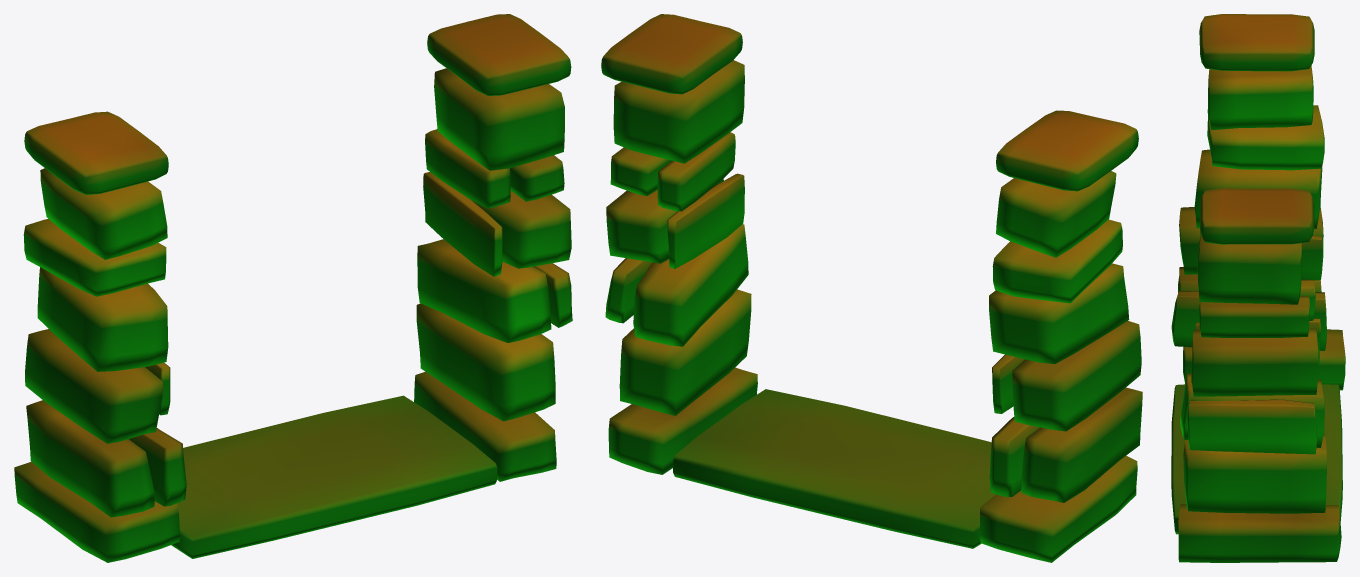
The model's file is tidewall_gate.glb.
3 views of the same model, side by side, from view 1: azimuth 30°, elevation 25°; view 2: azimuth 150°, elevation 25°; view 3: azimuth 270°, elevation 25° (orthographic). The views are drawn at different scales.
Visible parts, largest first — view 1: tidewall_gate; view 2: tidewall_gate; view 3: tidewall_gate.
Boxes of the visible parts, x1=… form: tidewall_gate: x1=14, y1=14, x2=572, y2=562; tidewall_gate: x1=601, y1=14, x2=1142, y2=562; tidewall_gate: x1=1171, y1=14, x2=1345, y2=562.
Size of what is drawn, in the model's own units: 2.06 by 1.61 by 0.7134.
